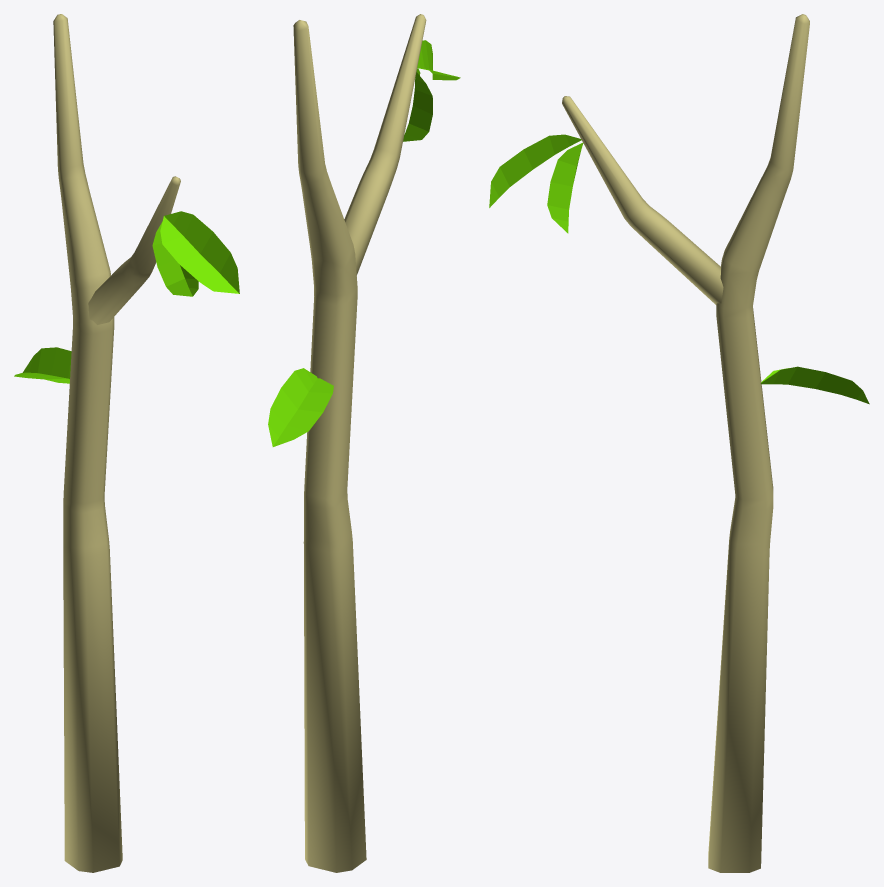
Rendered from 木の枝.fbx.
3 views of the same model, side by side, from view 1: azimuth 30°, elevation 25°; view 2: azimuth 150°, elevation 25°; view 3: azimuth 270°, elevation 25° (orthographic). The views are drawn at different scales.
Parts seen in each view (by area): view 1: eda; view 2: eda; view 3: eda.
Boxes of the visible parts, x1,y1,x2,y2 form: eda: (14,14,239,872); eda: (268,14,460,872); eda: (489,14,869,872).
Bounding box in the file's own units: 0.3518 × 5.07 × 2.07.
